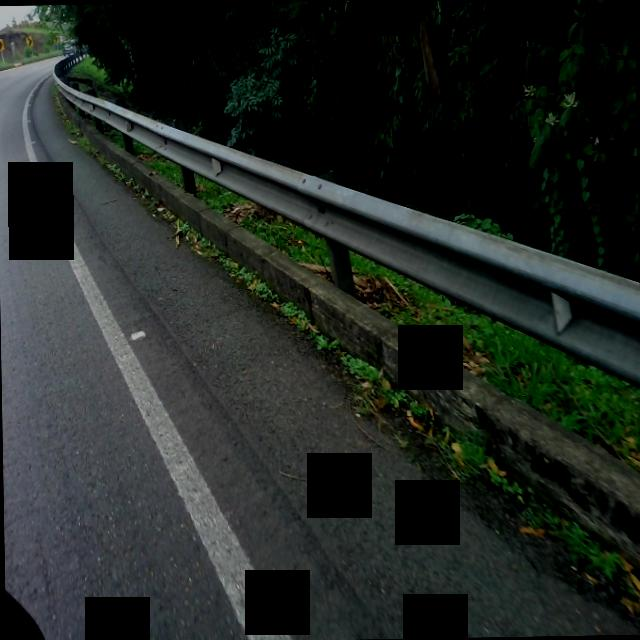DITCH: (15, 40, 640, 640), (71, 65, 640, 640)
